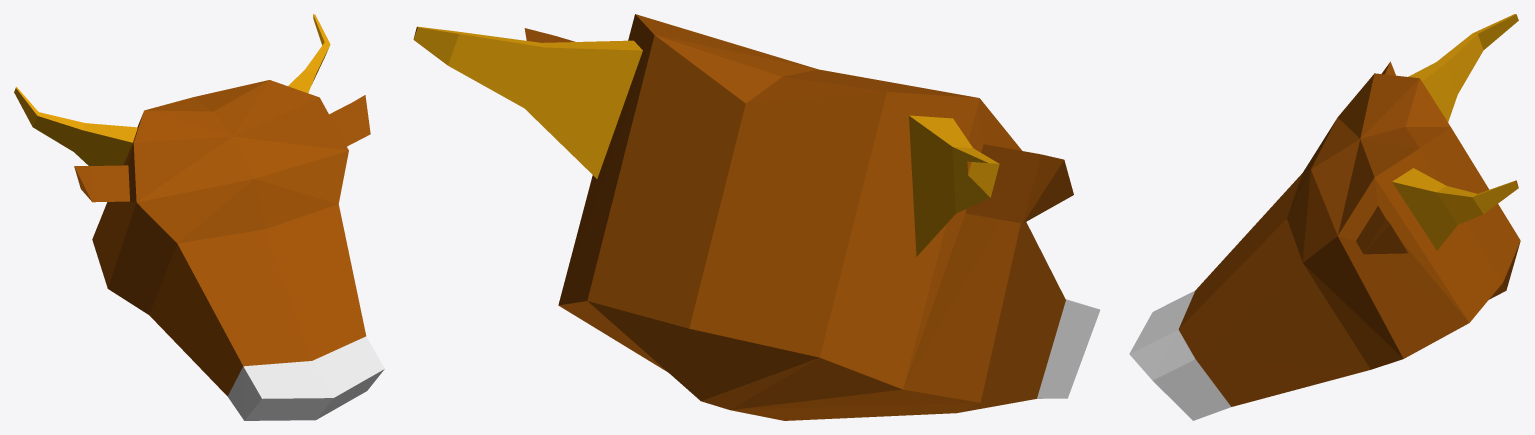
The model's file is ushi.glb.
The picture shows the model from 3 angles, left to right: view 1: azimuth 30°, elevation 25°; view 2: azimuth 150°, elevation 25°; view 3: azimuth 270°, elevation 25°; orthographic projection. The views are drawn at different scales.
Parts seen in each view (by area): view 1: Cube; view 2: Cube; view 3: Cube.
Part boxes in pixels (x1,y1,x2,y2): Cube: (14,14,384,420); Cube: (413,14,1100,420); Cube: (1129,14,1520,420).
Size of the model in its own units: 0.9731 by 0.8049 by 0.9612.
